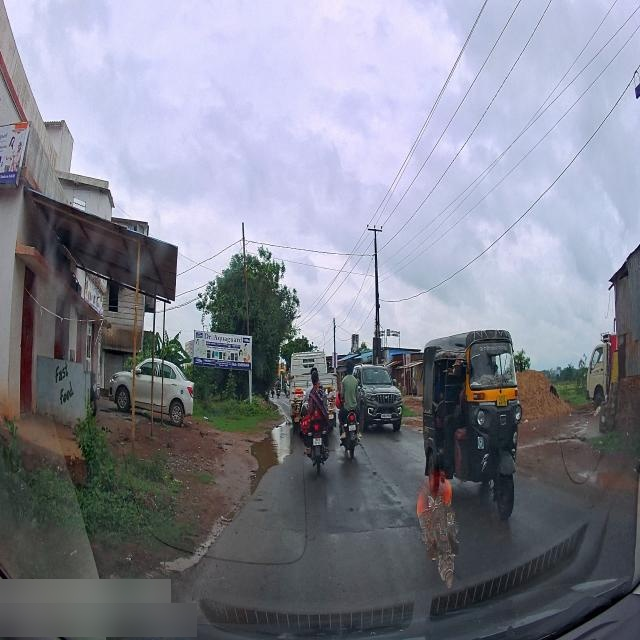pothole: (254, 420, 285, 482), (588, 464, 637, 493)
